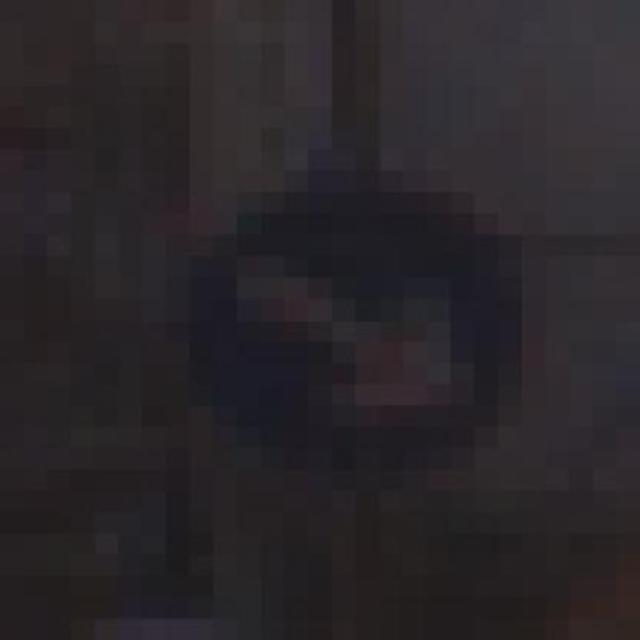Keep-Right: (166, 128, 545, 490)
